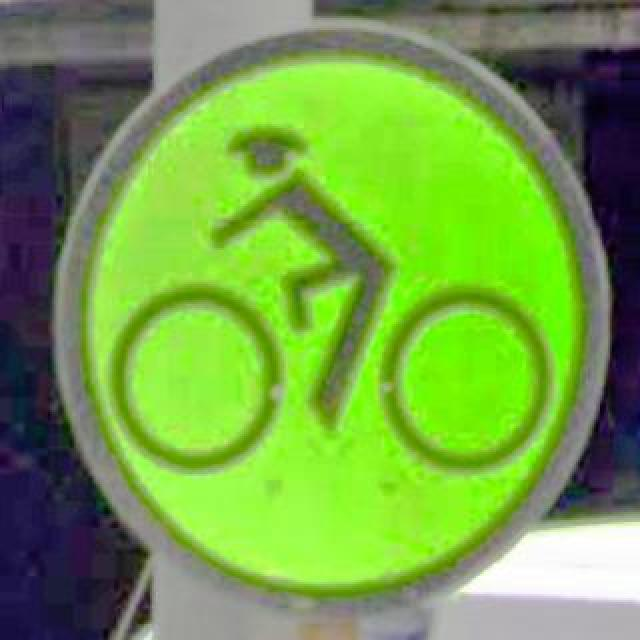bike lane: (52, 24, 608, 616)
